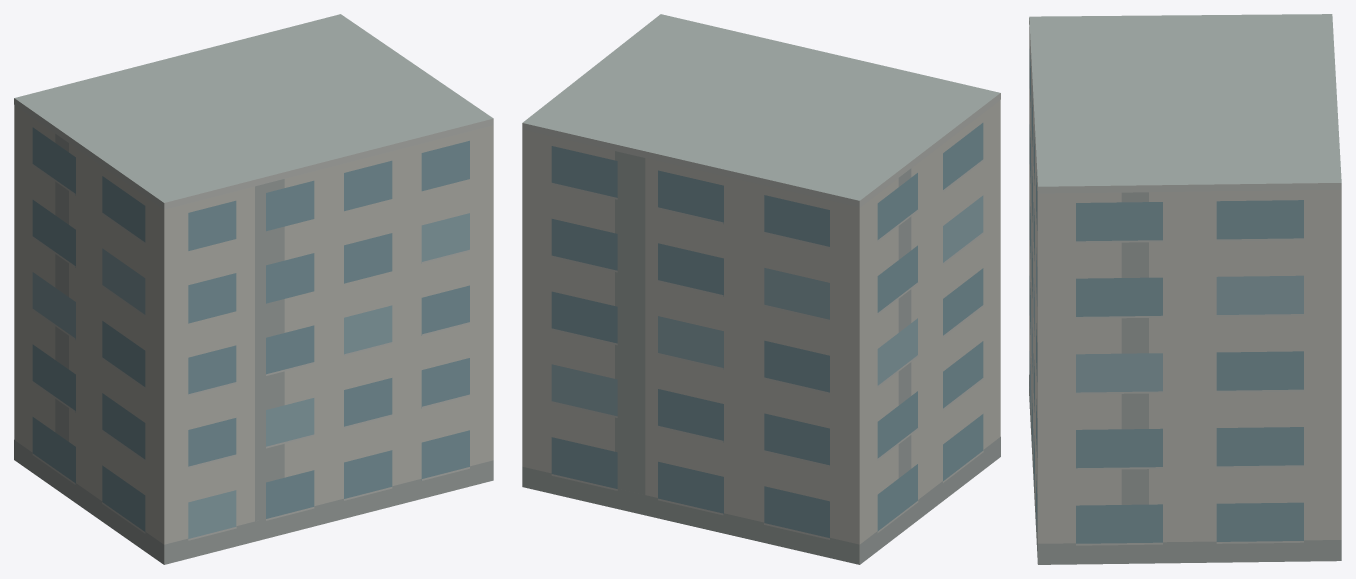
The model's file is survey-upis-32977790.glb.
3 views of the same model, side by side, from view 1: azimuth 30°, elevation 25°; view 2: azimuth 150°, elevation 25°; view 3: azimuth 270°, elevation 25° (orthographic). The views are drawn at different scales.
Visible parts, largest first — view 1: survey-upis-32977790.tmp; view 2: survey-upis-32977790.tmp; view 3: survey-upis-32977790.tmp.
Part boxes in pixels (x1,y1,x2,y2): survey-upis-32977790.tmp: (14,14,493,564); survey-upis-32977790.tmp: (522,14,1000,564); survey-upis-32977790.tmp: (1029,14,1341,564).
Bounding box in the file's own units: 12.94 × 13.2 × 9.9.
